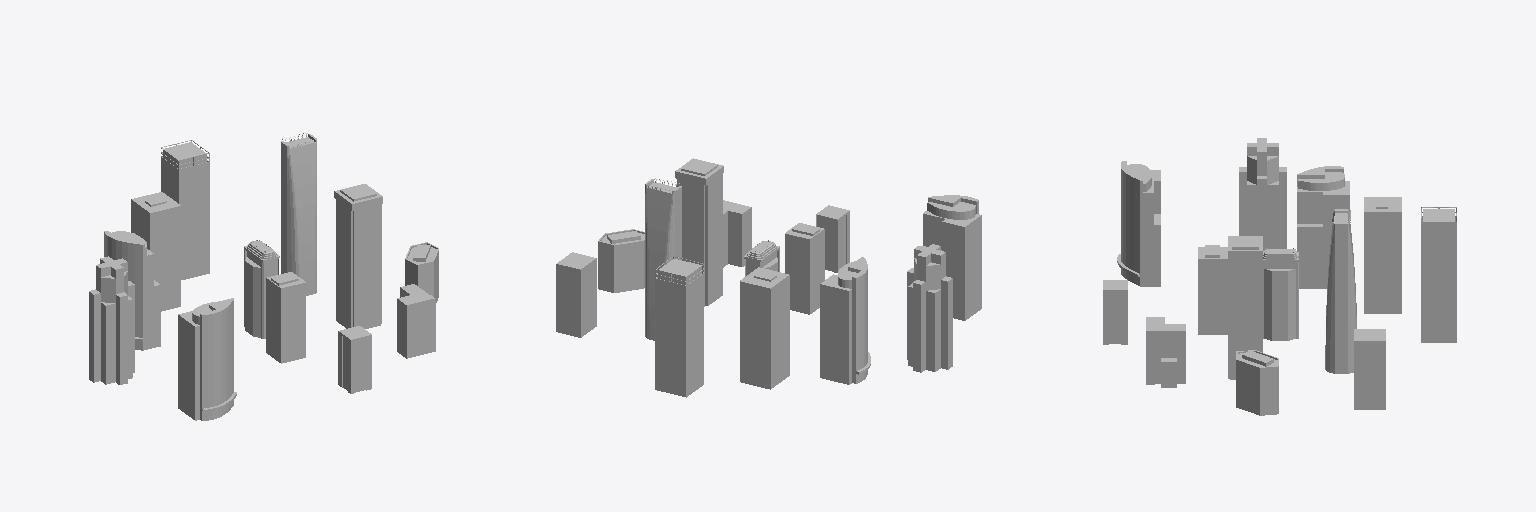
The model's file is town.obj.
3 renders of one model, left to right at view 1: azimuth 30°, elevation 25°; view 2: azimuth 150°, elevation 25°; view 3: azimuth 270°, elevation 25°, orthographic.
Visible parts, largest first — view 1: Cube.001_Background_Night_Buildings_0; view 2: Cube.001_Background_Night_Buildings_0; view 3: Cube.001_Background_Night_Buildings_0.
Boxes of the visible parts, x1=… form: Cube.001_Background_Night_Buildings_0: x1=89, y1=133, x2=438, y2=420; Cube.001_Background_Night_Buildings_0: x1=556, y1=158, x2=981, y2=397; Cube.001_Background_Night_Buildings_0: x1=1103, y1=138, x2=1456, y2=415.
Size of the model in its own units: 196 by 81.99 by 173.